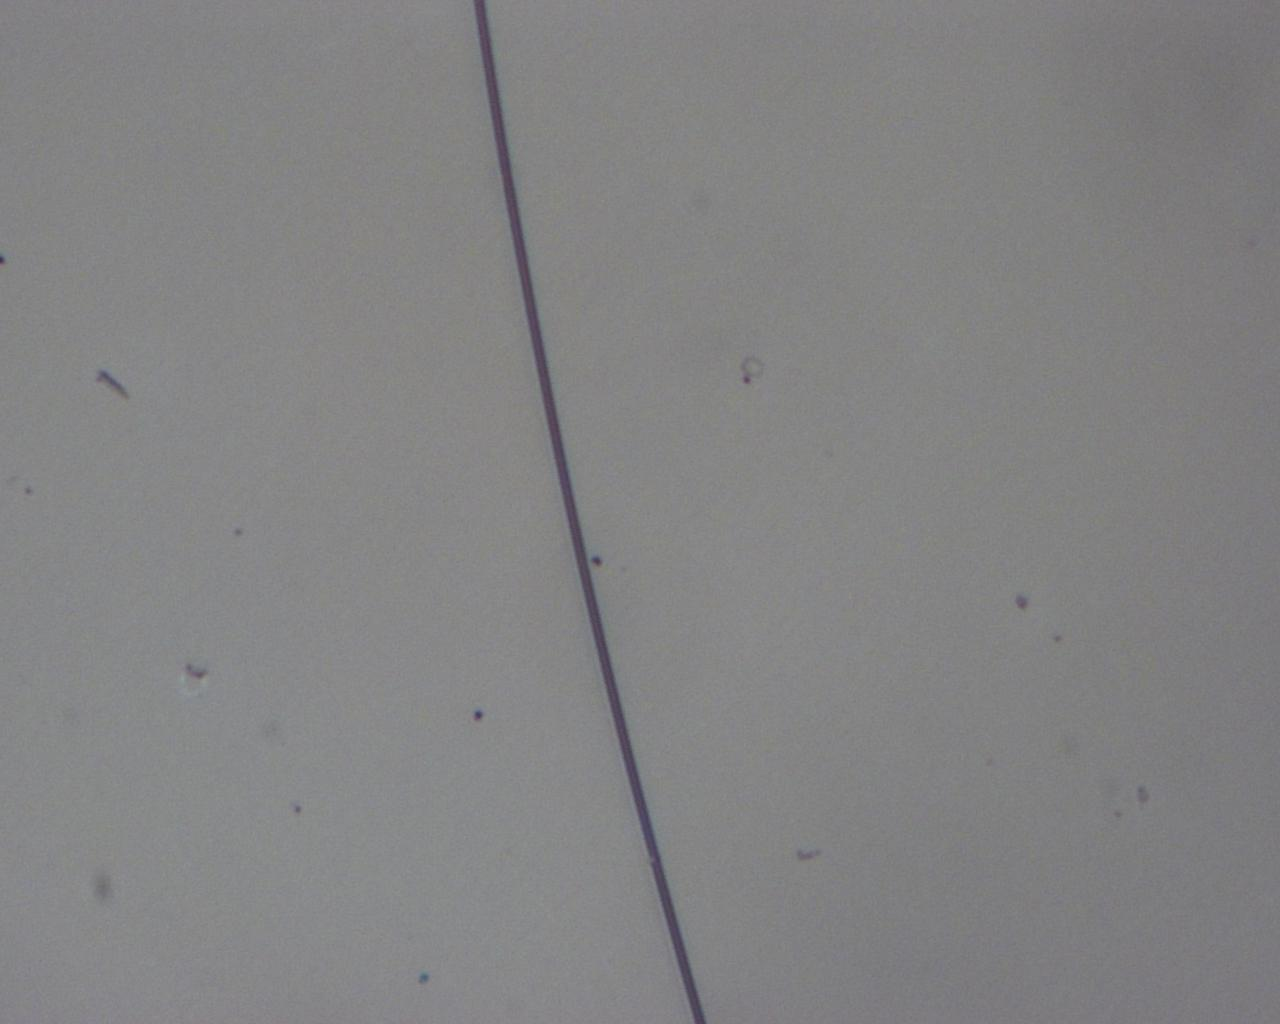fiber: (470, 0, 707, 1024)
